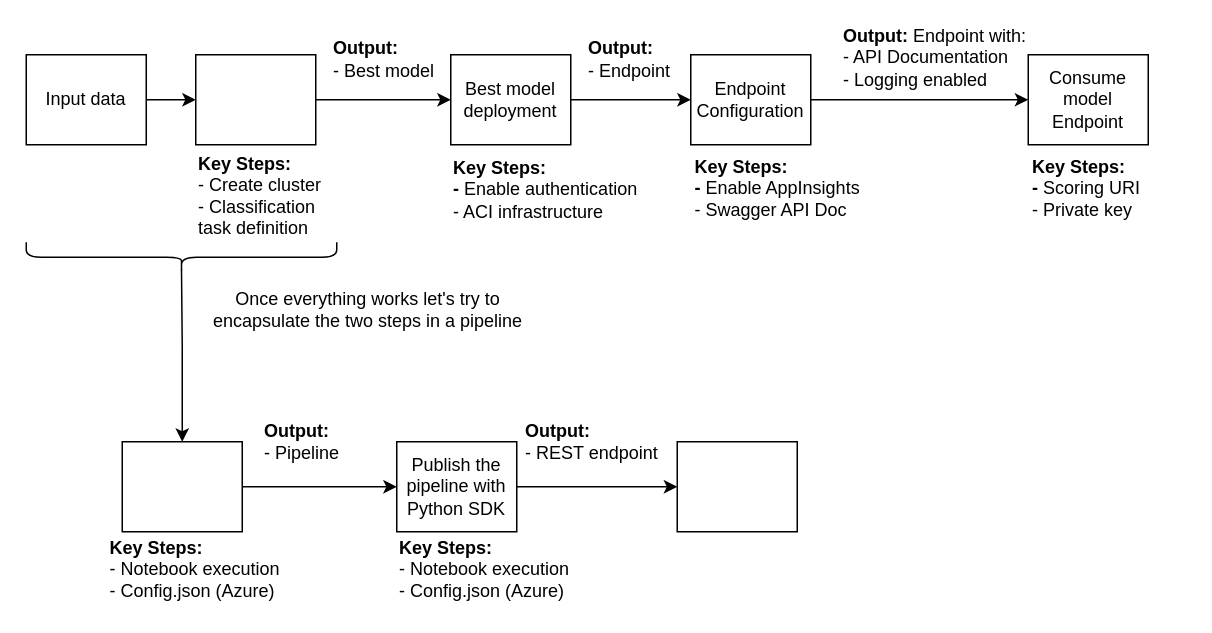
Image size: 1212x633. Some labels were removed from this diagram. The shapes that lost their labels are listed below. From the top down, each one's centre as x and y in pixels, then its label:
At pixel 255 99: "Automated ML run".
At pixel 181 486: "Pipeline creation with Python SDK".
At pixel 736 486: "Consume pipeline endpoint".
